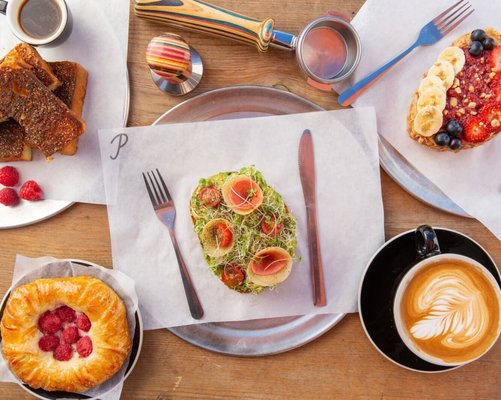pizza: (2, 0, 73, 47)
sandwich: (298, 125, 326, 310)
